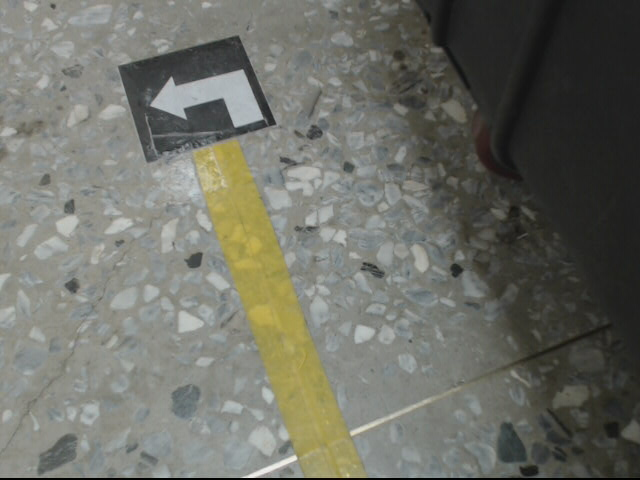left: (117, 34, 277, 167)
